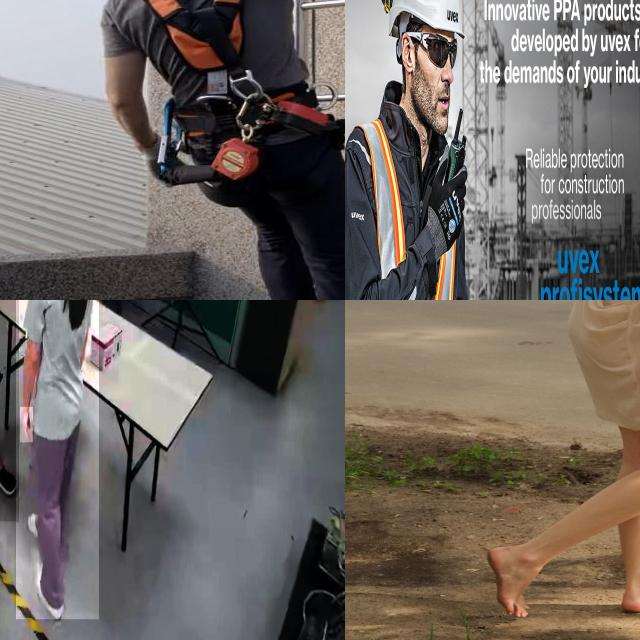Barefoots: (486, 546, 530, 618), (620, 586, 640, 612)
Ear-protection: (377, 0, 392, 18)
Harness: (127, 0, 345, 203)
glasses: (415, 28, 459, 67)
hand_glove: (428, 165, 473, 236)
hand_noglove: (20, 407, 34, 443)
head_helmet: (391, 0, 466, 44)
person: (345, 0, 520, 300), (16, 300, 99, 620)
shoes: (0, 458, 19, 499)
vest: (345, 108, 451, 300)
